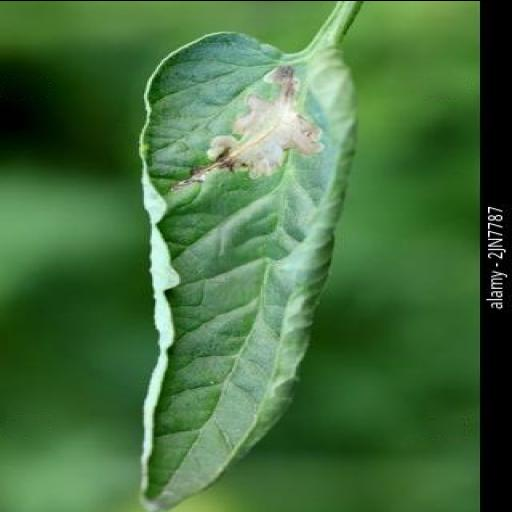disease_tomato: (140, 26, 363, 510)
